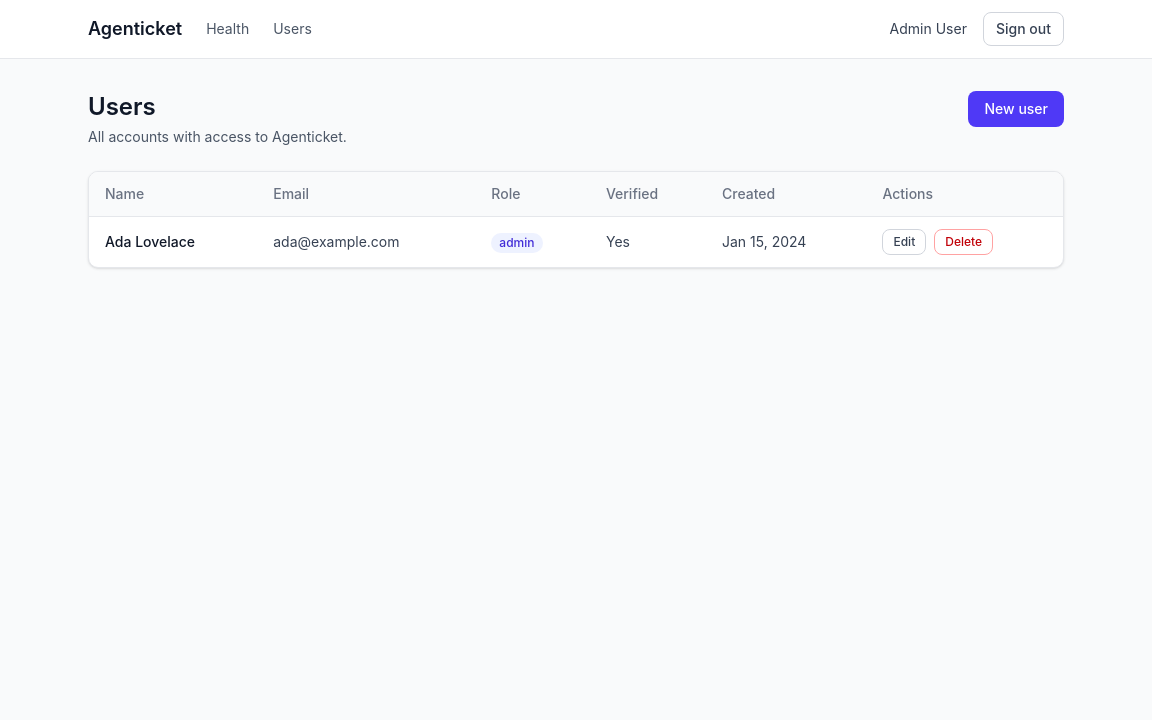
Test: Users page › opens the edit dialog pre-filled when Edit is clicked
Click the button "Edit" at (904, 242), box [882,229,926,255]
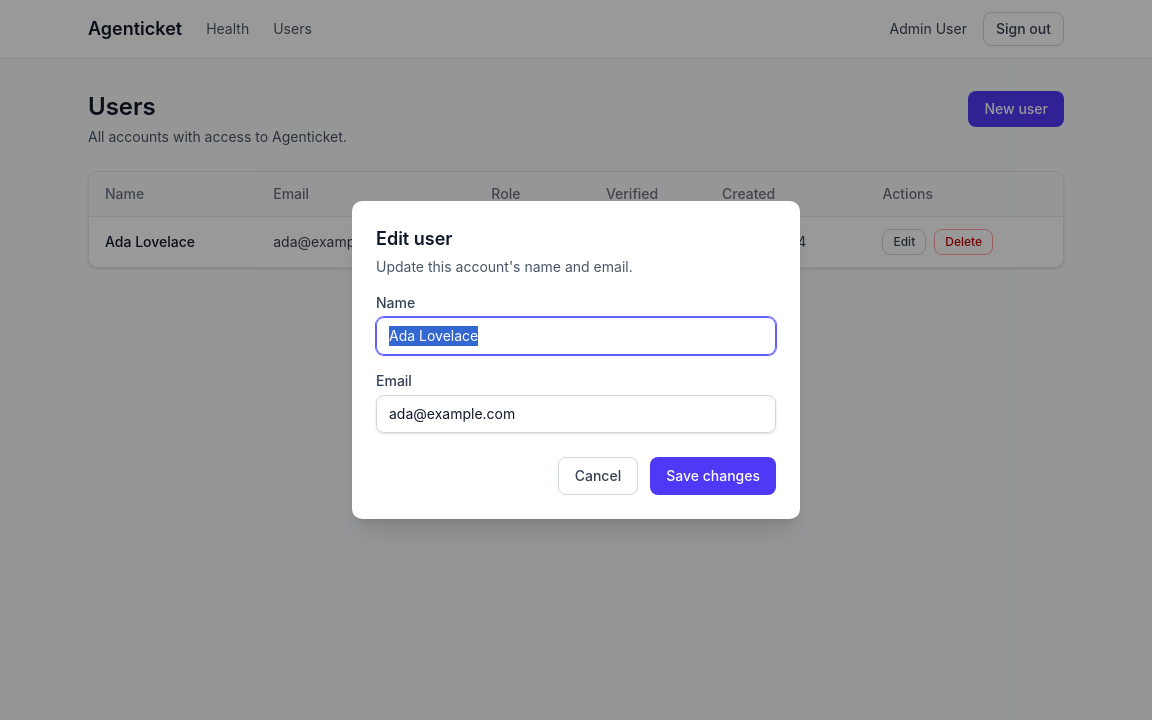
Expected: the field labelled "Name" holds "Ada Lovelace", [376,317,776,355]
Expected: the field labelled "Email" holds "ada@example.com", [376,395,776,433]
